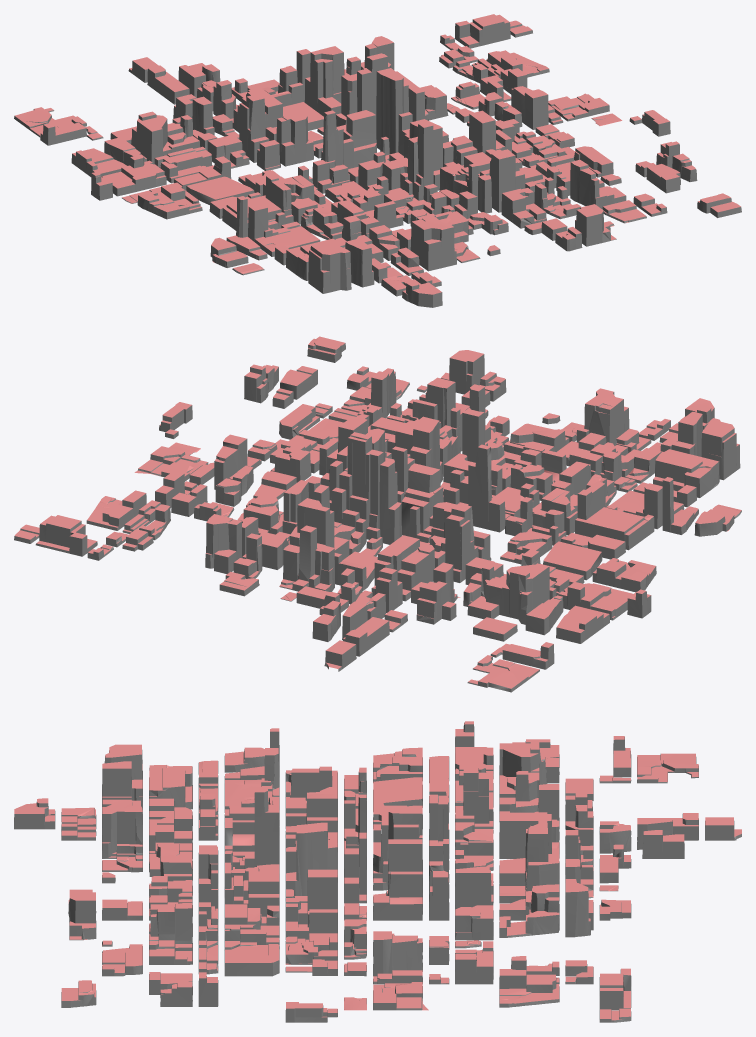
The model's file is City_OOB_A.gltf.
3 renders of one model, top to bottom at view 1: azimuth 30°, elevation 25°; view 2: azimuth 150°, elevation 25°; view 3: azimuth 270°, elevation 25°, orthographic. The views are drawn at different scales.
Parts seen in each view (by area): view 1: City_OOB_A; view 2: City_OOB_A; view 3: City_OOB_A.
Boxes of the visible parts, left/top/right/bottom form: City_OOB_A: left=14, top=14, right=741, bottom=307; City_OOB_A: left=14, top=336, right=741, bottom=692; City_OOB_A: left=14, top=721, right=741, bottom=1022.
Bounding box in the file's own units: 18.18 × 2.97 × 20.19.
